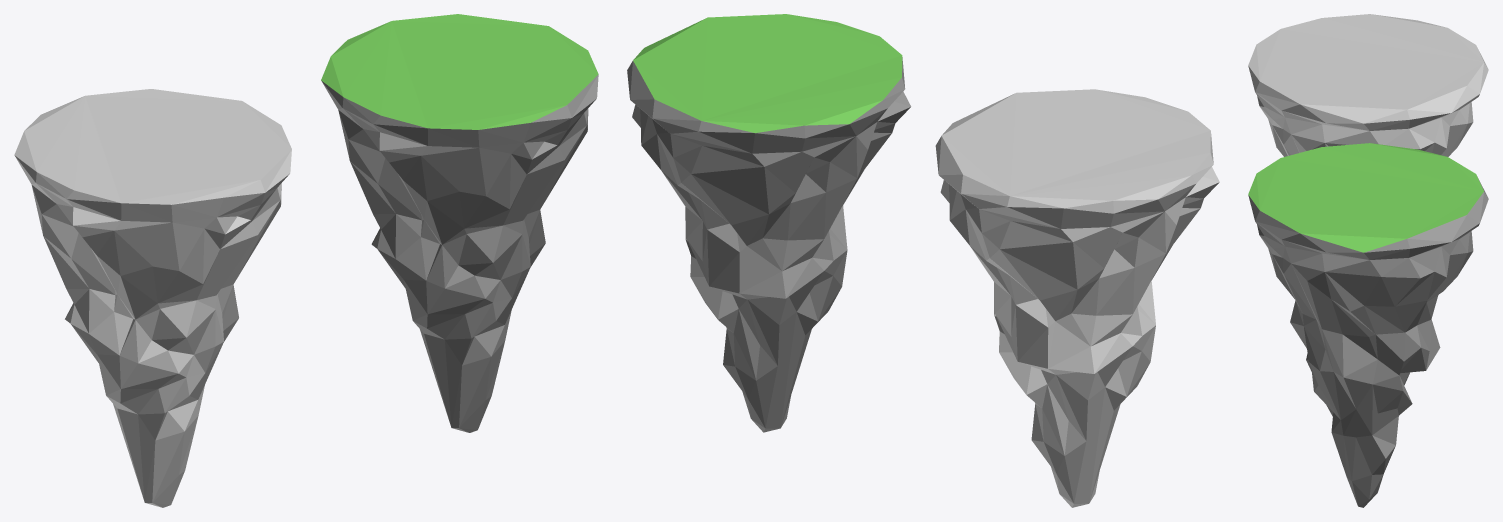
The model's file is ground_element.fbx.
3 renders of one model, left to right at view 1: azimuth 30°, elevation 25°; view 2: azimuth 150°, elevation 25°; view 3: azimuth 270°, elevation 25°, orthographic. The views are drawn at different scales.
Parts seen in each view (by area): view 1: Cylinder, Cylinder.001; view 2: Cylinder, Cylinder.001; view 3: Cylinder.001, Cylinder.
Boxes of the visible parts, left/top/right/bottom form: Cylinder: left=14, top=89, right=291, bottom=507; Cylinder.001: left=321, top=14, right=598, bottom=432; Cylinder: left=935, top=89, right=1219, bottom=507; Cylinder.001: left=627, top=14, right=911, bottom=432; Cylinder.001: left=1248, top=143, right=1488, bottom=507; Cylinder: left=1248, top=14, right=1488, bottom=156.
Bounding box in the file's own units: 1859 × 1173 × 816.
